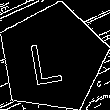L_N: (33, 30, 72, 86)
